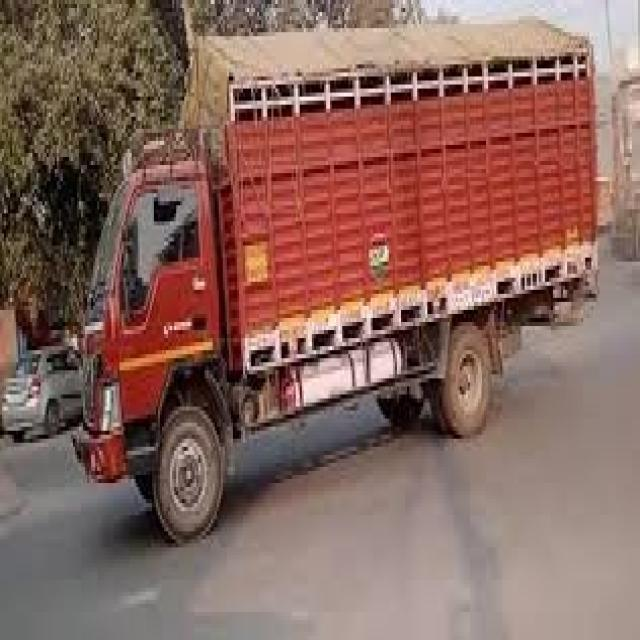covered: (70, 16, 602, 540)
